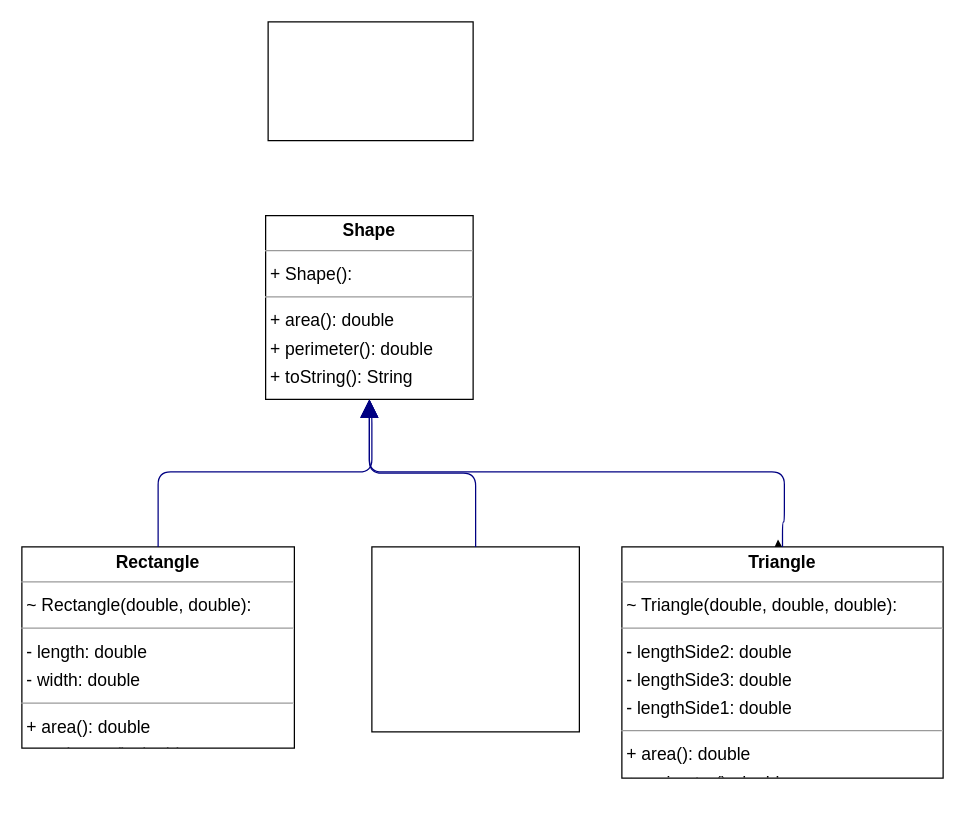
This 965x813 diagram has some shape labels left out. The centre of each missing label's shape, as x and y in pixels:
Circle ~ Circle(double): - radius: double + perimeter(): double + area(): double: point (475, 639)
ShapeArray + ShapeArray(): + main(String[]): void: point (370, 81)
